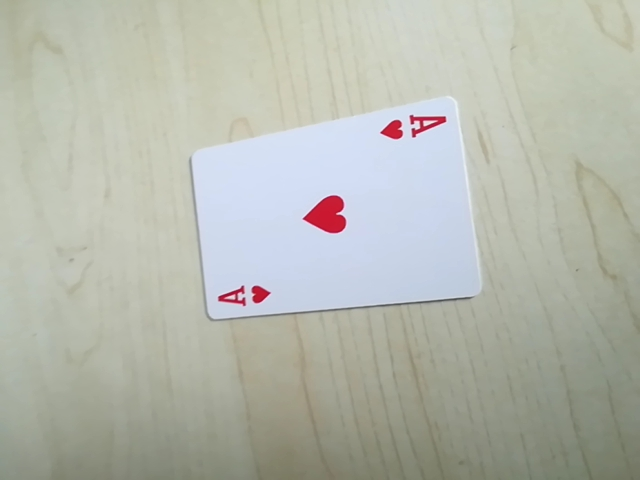hx a: (376, 106, 450, 148), (210, 276, 278, 313)
